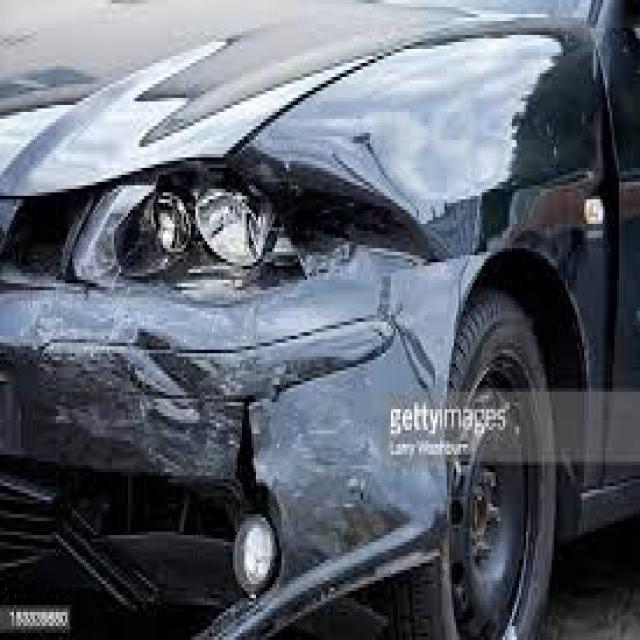moderate: (0, 83, 481, 640)
